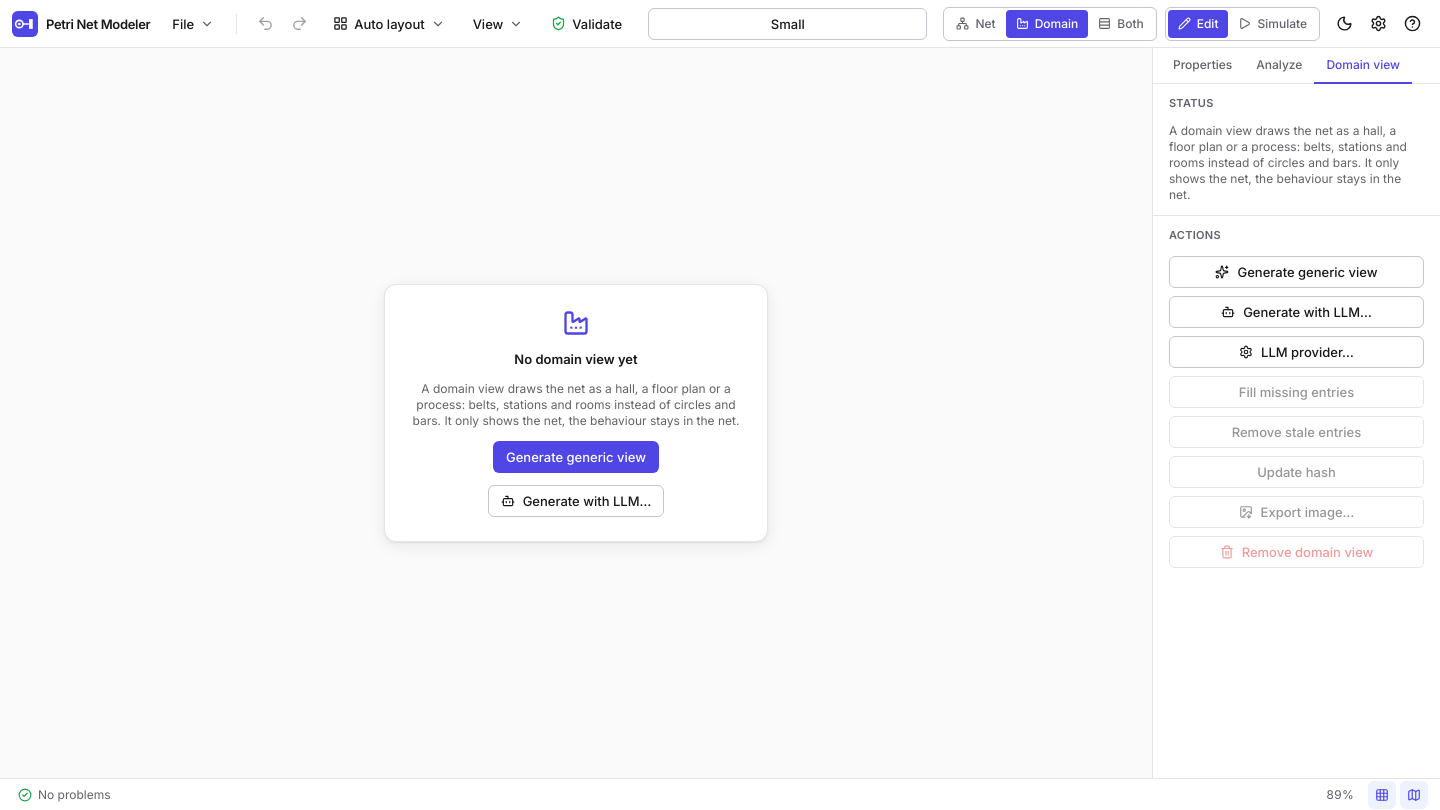
it: the guided form (N4) › remembers the last tab
Click the button with test id "domain-generate-llm" at (1296, 312), box [1169, 296, 1424, 328]
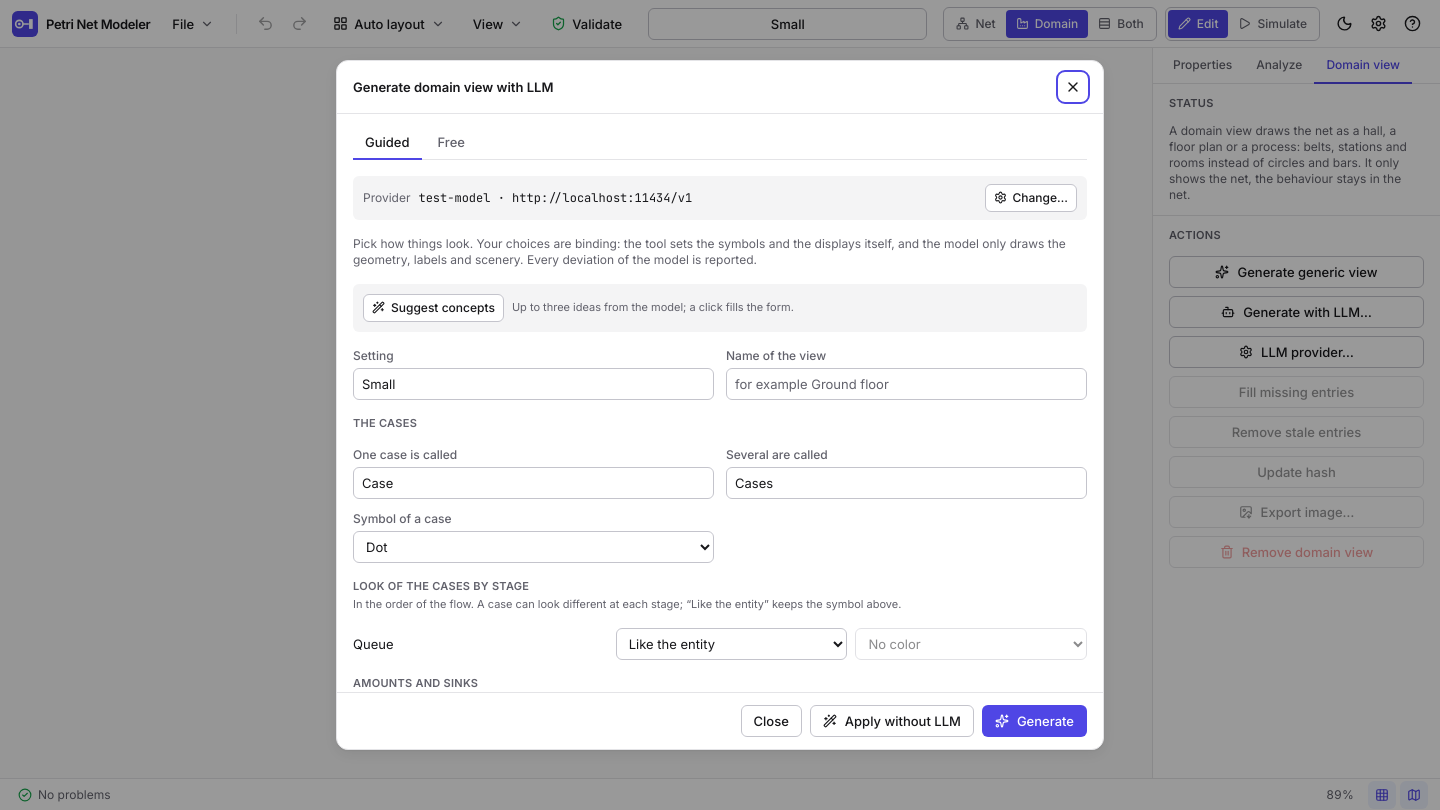
Click the tab with test id "llm-tab-free" at (451, 143), box [426, 126, 477, 160]
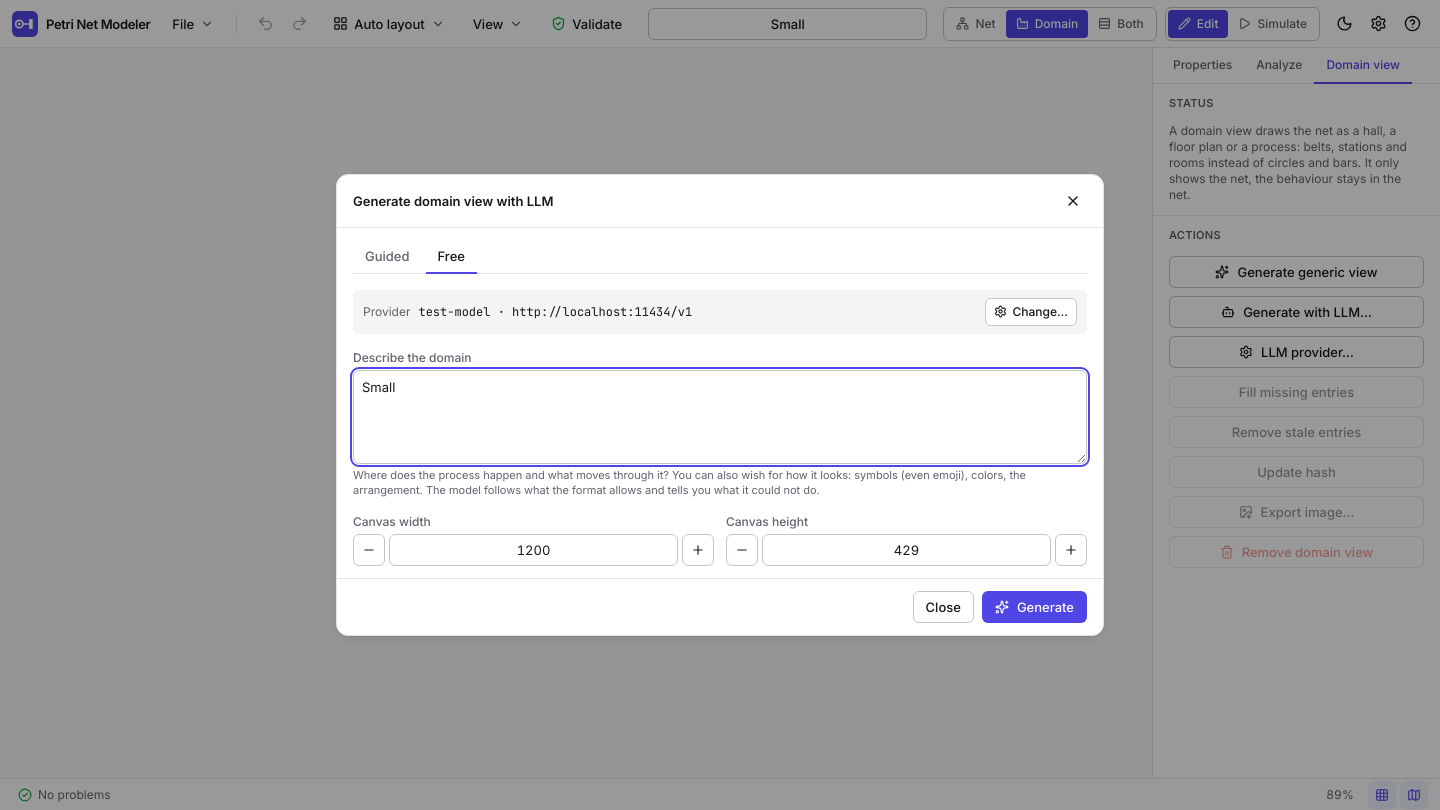
Now the text box with test id "llm-description" holds "Small", box [353, 370, 1087, 464]
Click the button with test id "llm-close" at (943, 607), box [913, 591, 974, 623]
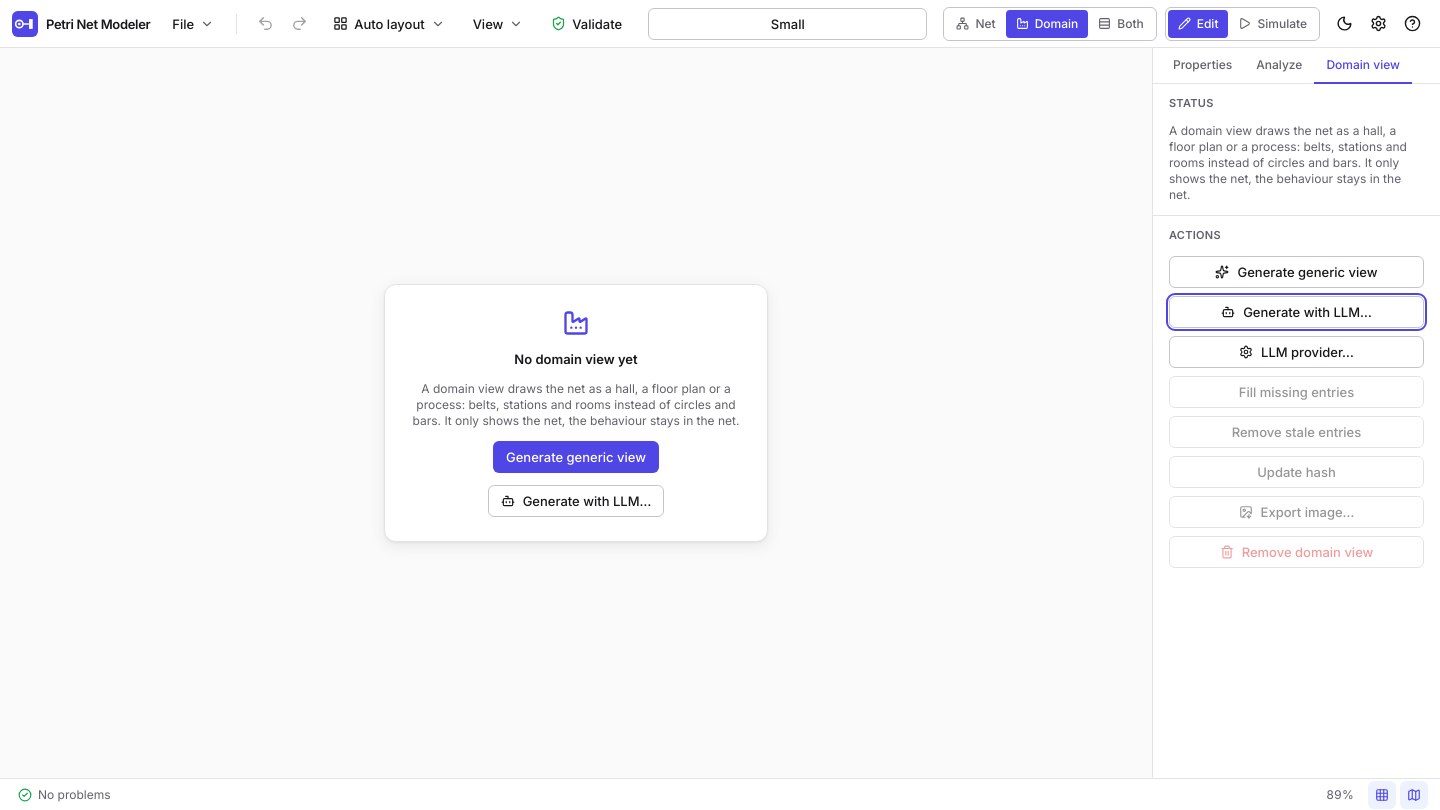
Click the button with test id "domain-generate-llm" at (1296, 312), box [1169, 296, 1424, 328]
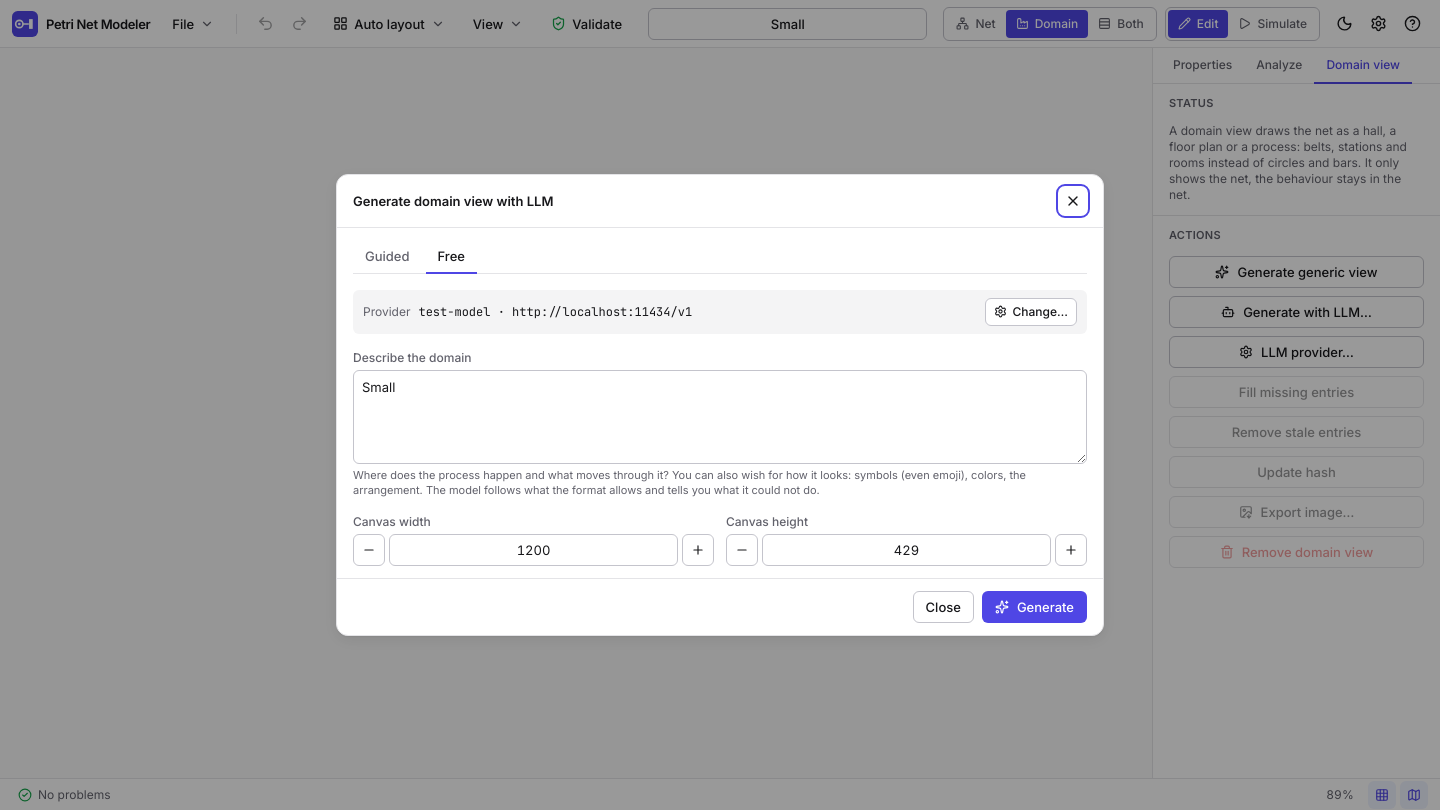
Now the text box with test id "llm-description" is shown, box [353, 370, 1087, 464]
